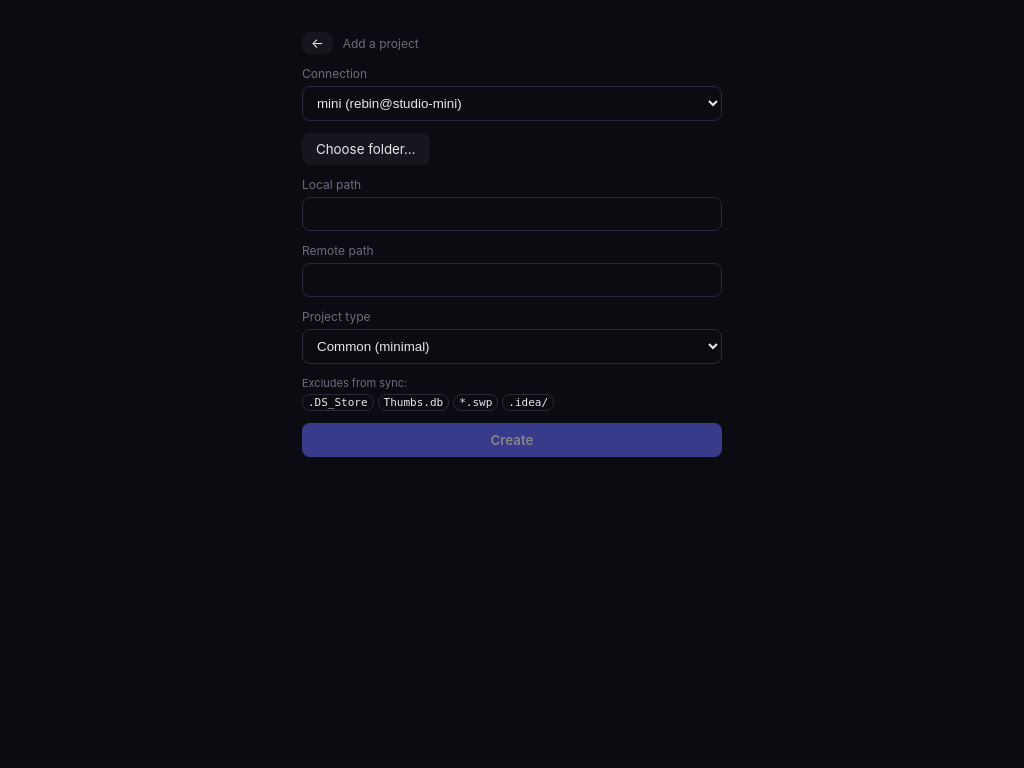
AddProject › Cancel on the modal aborts without finishing
The width and height of the screenshot is (1024, 768).
Click the button with test id "pick-folder" at (366, 149), box top-left (302, 133), bottom-right (430, 165)
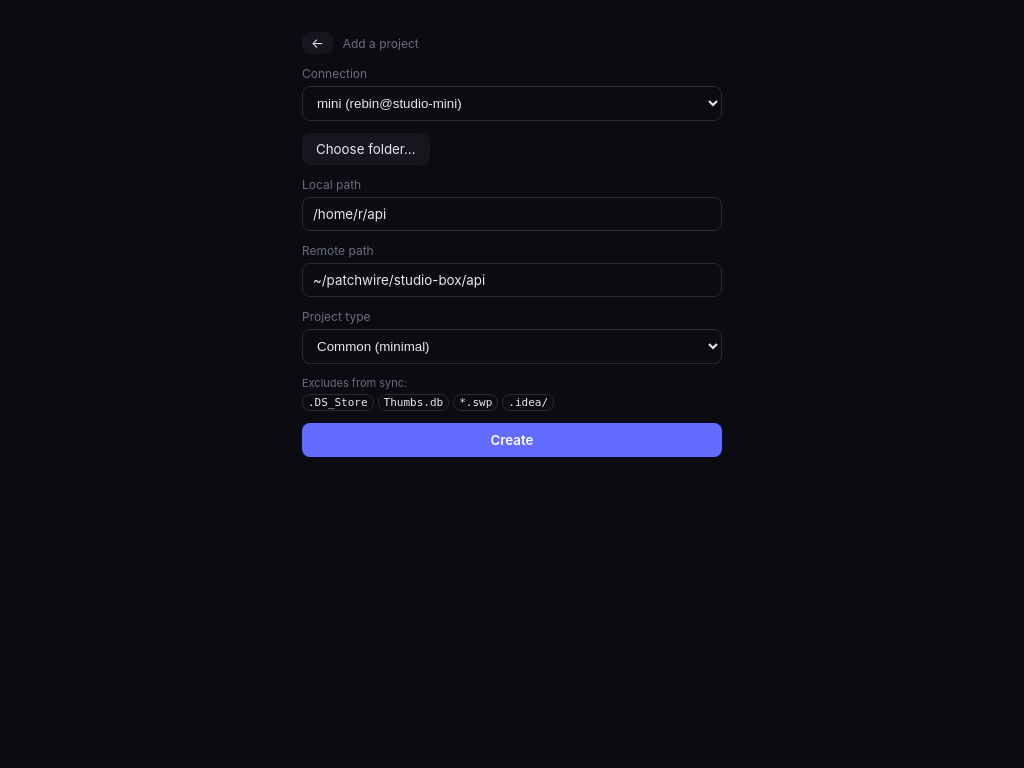
Click the button with test id "create-project" at (512, 440), box top-left (302, 423), bottom-right (722, 457)
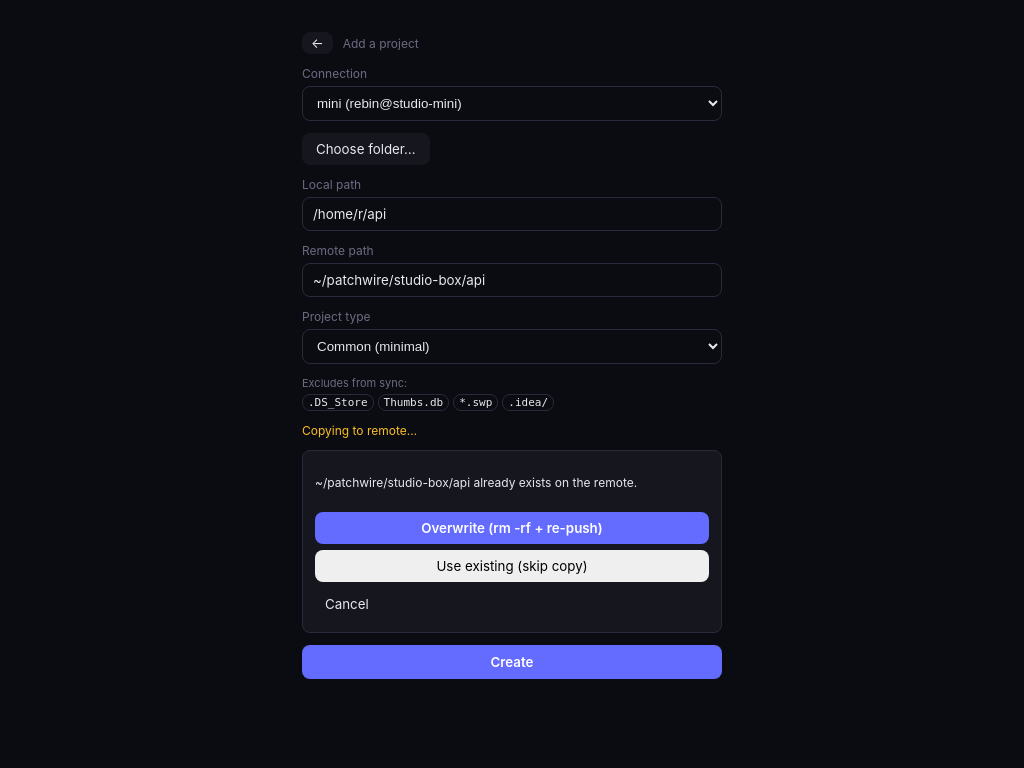
Click the button with test id "exists-cancel" at (347, 604), box top-left (315, 588), bottom-right (379, 620)
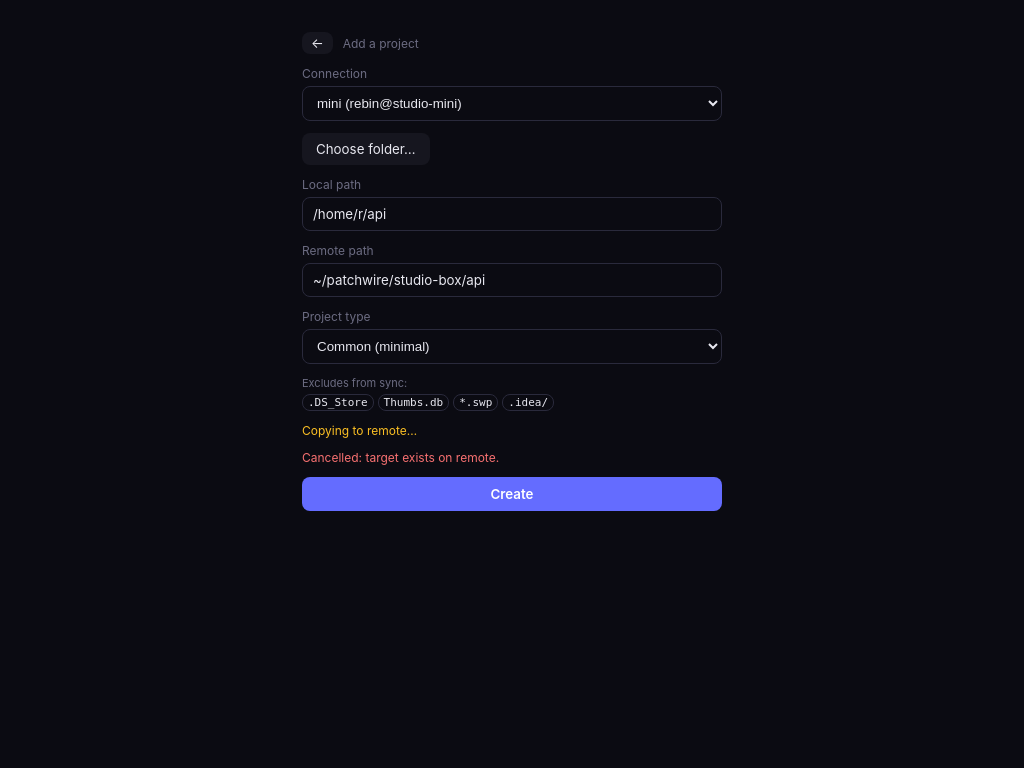
Result: the dialog with test id "exists-modal" is gone
Result: the message with test id "add-error" shows "Cancelled" at top-left (302, 450), bottom-right (499, 465)
